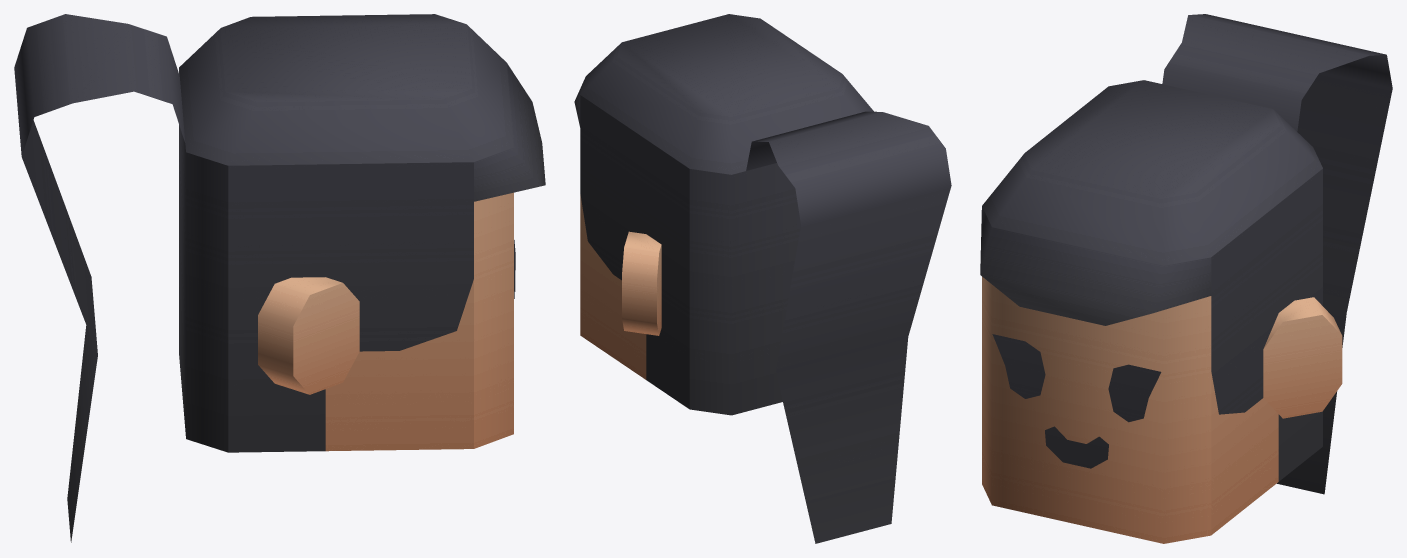
The model's file is head-mesh.001_lev2.glb.
3 renders of one model, left to right at view 1: azimuth 30°, elevation 25°; view 2: azimuth 150°, elevation 25°; view 3: azimuth 270°, elevation 25°, orthographic. The views are drawn at different scales.
Parts seen in each view (by area): view 1: head-mesh.001_lev2; view 2: head-mesh.001_lev2; view 3: head-mesh.001_lev2.
Boxes of the visible parts, x1,y1,x2,y2 form: head-mesh.001_lev2: (14, 14, 545, 542); head-mesh.001_lev2: (574, 14, 951, 543); head-mesh.001_lev2: (980, 14, 1392, 543).
Bounding box in the file's own units: 2.97 × 2.74 × 2.28.
Materials: 1 (1 with a texture image).
